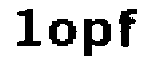1: (11, 8, 44, 49)
f: (118, 5, 141, 52)
o: (50, 16, 78, 50)
p: (81, 16, 112, 60)
